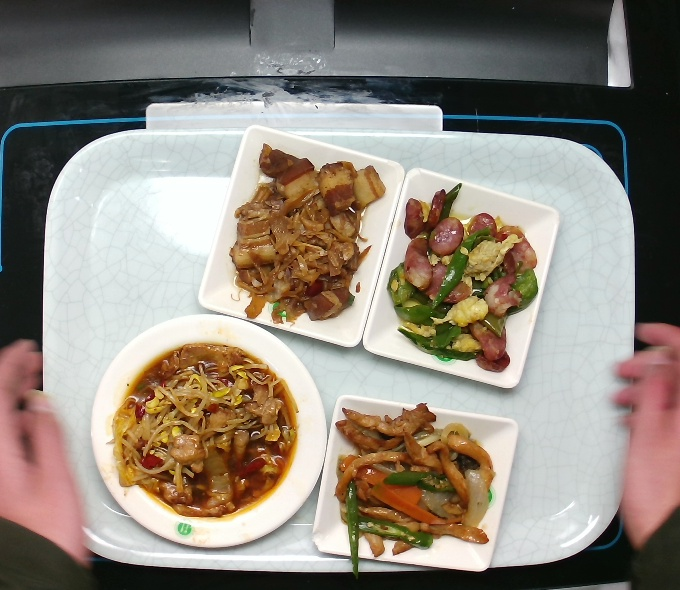wcq-HongShaoRou: (220, 139, 391, 332)
wcq-QingJiaoJiDanChaoDaChang: (383, 180, 544, 380)
wcq-QingJiaoRouSi: (322, 400, 505, 582)
wcq-ShuiZhuRouPian: (101, 329, 310, 529)
